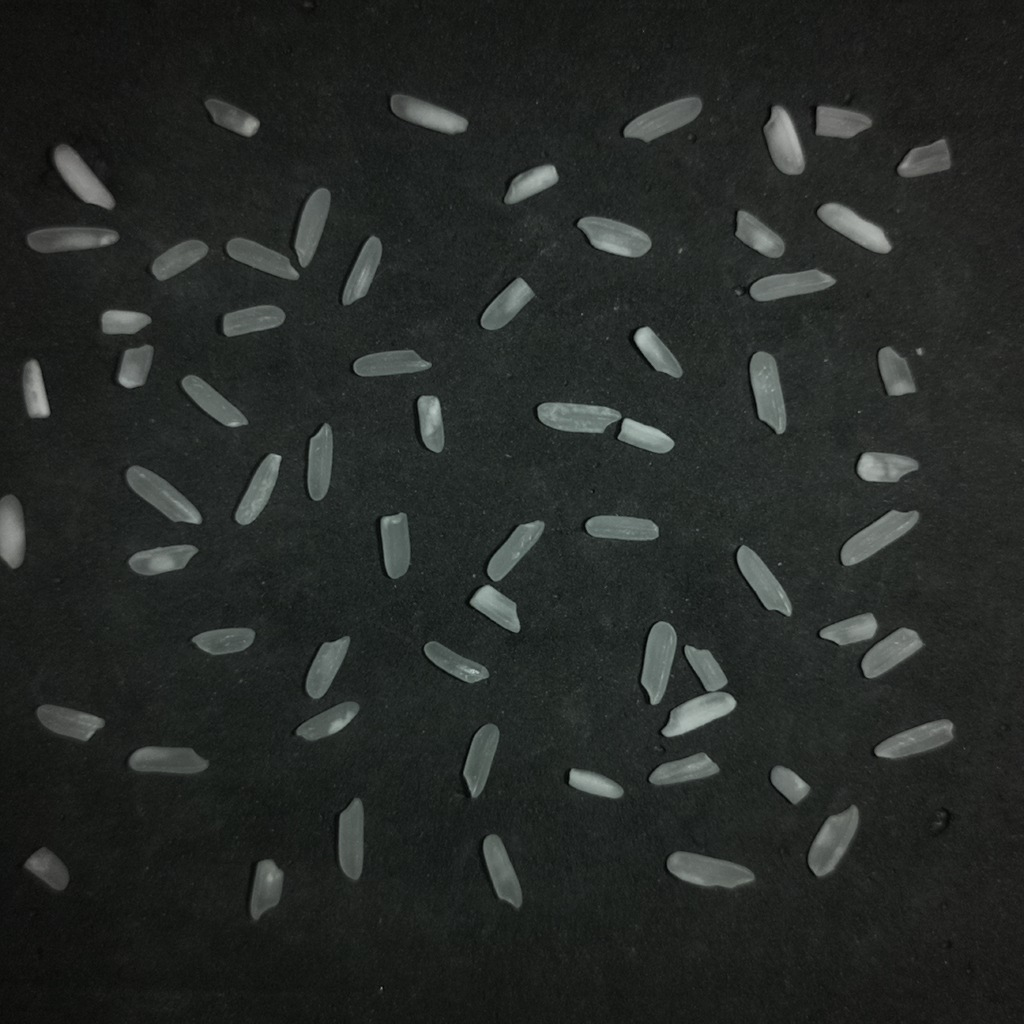broken: (897, 138, 950, 177), (379, 513, 410, 579), (816, 105, 872, 138)
chalky: (52, 145, 114, 209), (817, 202, 891, 253), (807, 805, 858, 876), (661, 691, 736, 738), (487, 520, 544, 581), (234, 453, 281, 524), (667, 851, 754, 888), (861, 627, 923, 678), (874, 719, 954, 758), (390, 94, 467, 134), (576, 216, 651, 257), (749, 351, 786, 434), (483, 834, 522, 908), (480, 277, 534, 330), (763, 105, 804, 174), (305, 636, 350, 698), (341, 236, 381, 305), (749, 269, 835, 301), (295, 701, 359, 741), (633, 326, 682, 378), (36, 704, 104, 741), (648, 752, 720, 786), (537, 403, 621, 432), (735, 209, 784, 258), (469, 585, 520, 632), (26, 226, 118, 252), (204, 97, 259, 137), (249, 859, 284, 921), (503, 165, 558, 204), (128, 544, 197, 575), (617, 417, 673, 453), (23, 847, 68, 891), (684, 645, 727, 691), (877, 346, 916, 396), (818, 613, 877, 645), (0, 494, 25, 568), (856, 453, 918, 482), (22, 359, 50, 418), (568, 768, 623, 798), (116, 344, 153, 388), (770, 765, 810, 804), (417, 395, 444, 451), (100, 309, 151, 334)
whole: (125, 465, 202, 524), (840, 510, 919, 565), (736, 545, 791, 615), (622, 96, 701, 142), (181, 375, 247, 427), (226, 237, 298, 280), (293, 187, 330, 268), (641, 621, 676, 704), (423, 641, 488, 683), (463, 723, 499, 797), (150, 239, 208, 280), (128, 746, 208, 774), (337, 798, 364, 880), (352, 349, 431, 376), (221, 305, 284, 336), (307, 423, 332, 500), (585, 515, 658, 540), (191, 628, 255, 655)
